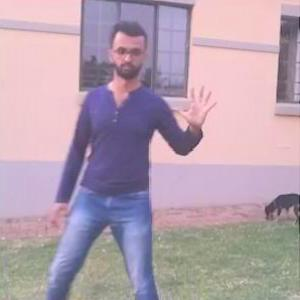follow_hand: (175, 80, 221, 127)
